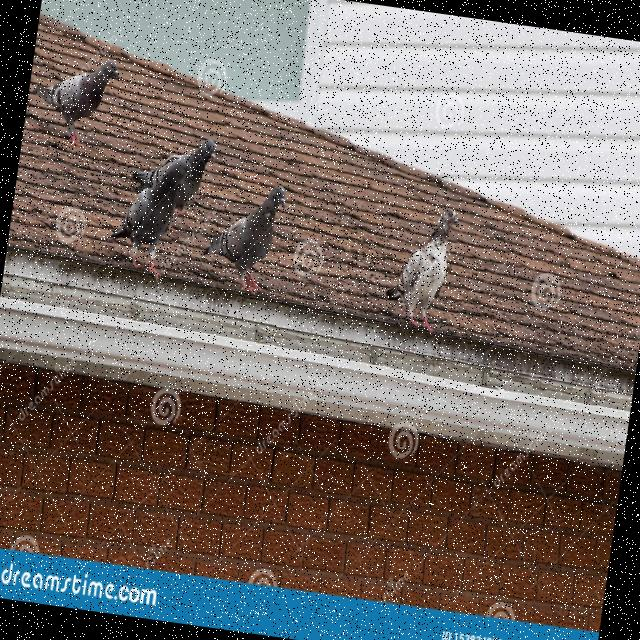bird: (103, 128, 220, 288), (378, 199, 464, 337), (198, 174, 290, 297), (28, 50, 124, 154)
